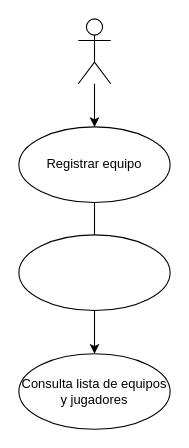
Some shapes in this 189 by 448 pixel diagram are drawn without their labels. The shapes that lost their labels are listed below. From the top down, each one's centre as x and y in pixels, then its label:
the point at 94,51: Administrador
the point at 94,272: Añadir jugadores a un equipo
